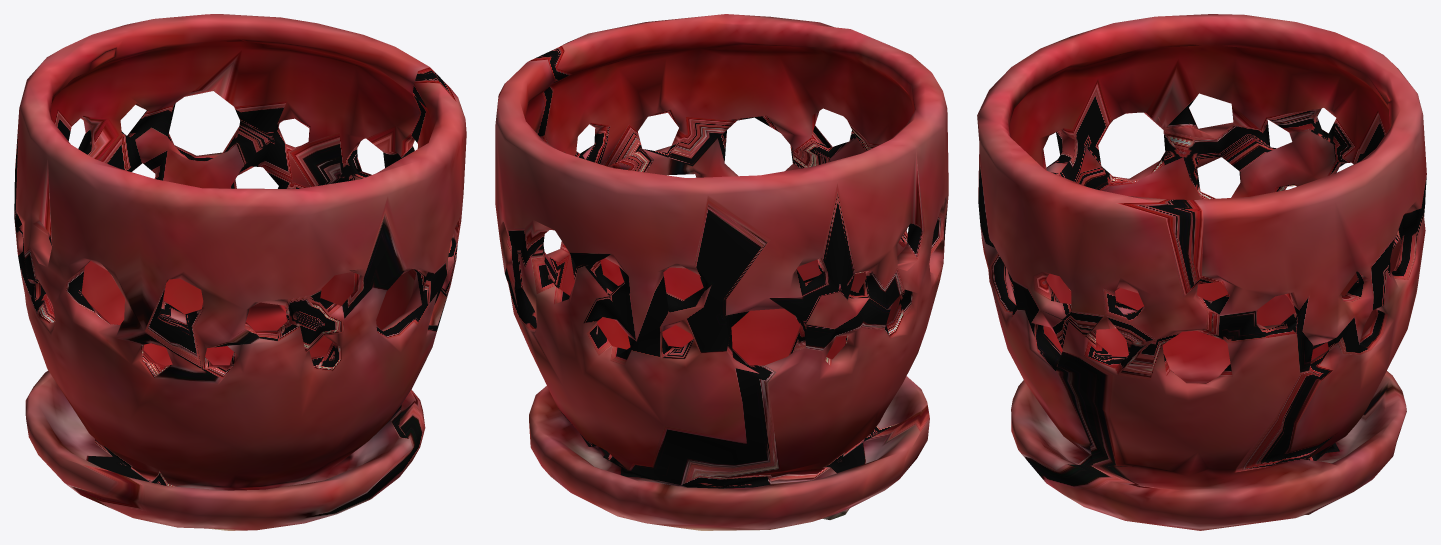
The model's file is gso_down_to_earth_orchid_pot_ceramic_red.glb.
3 renders of one model, left to right at view 1: azimuth 30°, elevation 25°; view 2: azimuth 150°, elevation 25°; view 3: azimuth 270°, elevation 25°, orthographic.
Parts seen in each view (by area): view 1: z-up-to-y-up; view 2: z-up-to-y-up; view 3: z-up-to-y-up.
Part boxes in pixels (left/top/right/bottom): z-up-to-y-up: left=14, top=14, right=466, bottom=530; z-up-to-y-up: left=495, top=14, right=948, bottom=530; z-up-to-y-up: left=977, top=14, right=1426, bottom=530.
Size of the model in its own units: 0.1303 by 0.1196 by 0.1309.
1 material, 1 textured.
